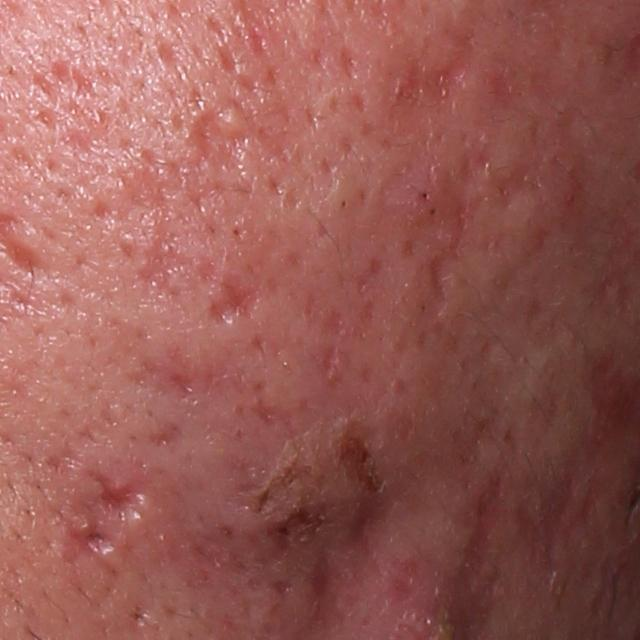atrophic_scar: (376, 43, 475, 216), (417, 125, 501, 328), (113, 148, 221, 305), (124, 338, 262, 415), (29, 54, 112, 156), (306, 299, 363, 393), (213, 36, 256, 104), (204, 275, 260, 327), (232, 1, 271, 66), (95, 471, 143, 522), (151, 35, 179, 69), (91, 202, 115, 229)
nodule: (174, 406, 401, 563)
